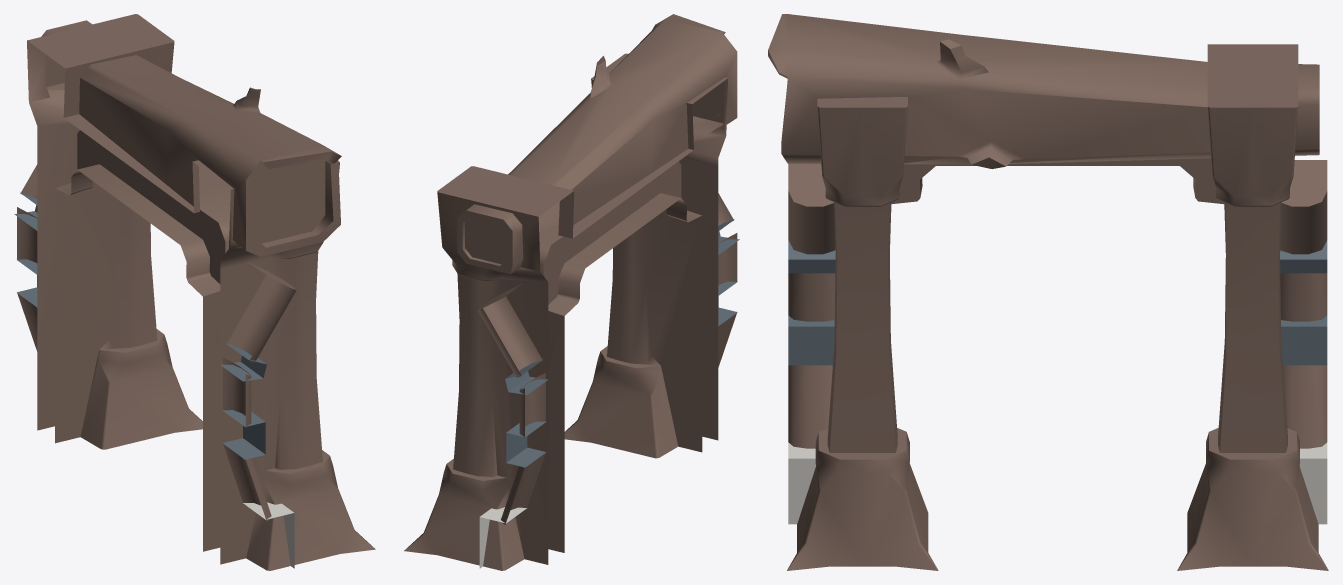
File: MSH_Door_01.fbx
3 views of the same model, side by side, from view 1: azimuth 30°, elevation 25°; view 2: azimuth 150°, elevation 25°; view 3: azimuth 270°, elevation 25° (orthographic). The views are drawn at different scales.
Visible parts, largest first — view 1: MSH_Door_01; view 2: MSH_Door_01; view 3: MSH_Door_01.
Part boxes in pixels (bbox=[...]): MSH_Door_01: bbox=[14, 14, 375, 570]; MSH_Door_01: bbox=[404, 14, 739, 570]; MSH_Door_01: bbox=[768, 14, 1328, 570].
Size of the model in its own units: 168 by 514 by 521.
